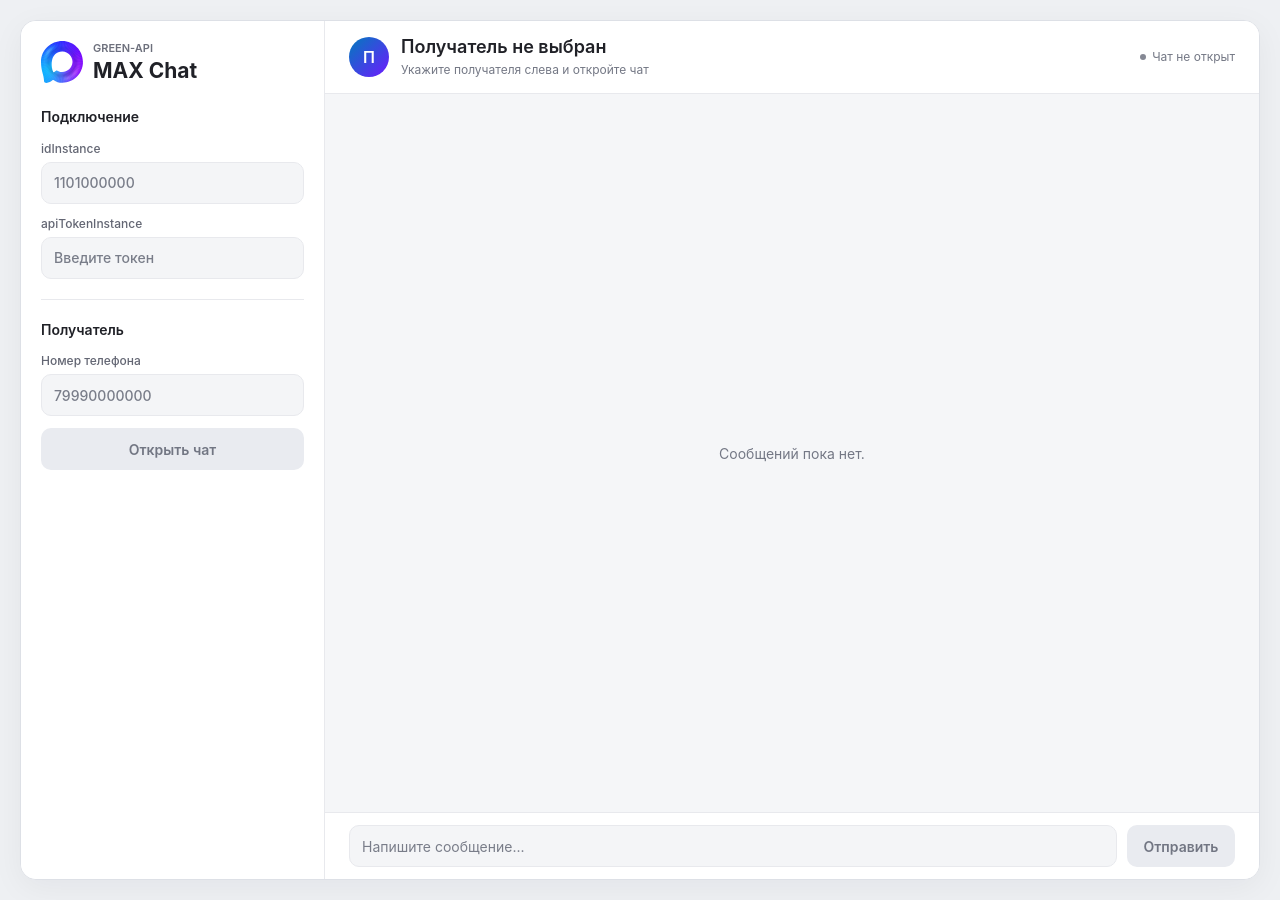
acknowledges other-chat events without displaying them and receives the active chat
The image size is (1280, 900).
In the field labelled "idInstance": (172, 183) 41,162 -> 304,204, type "test-instance"
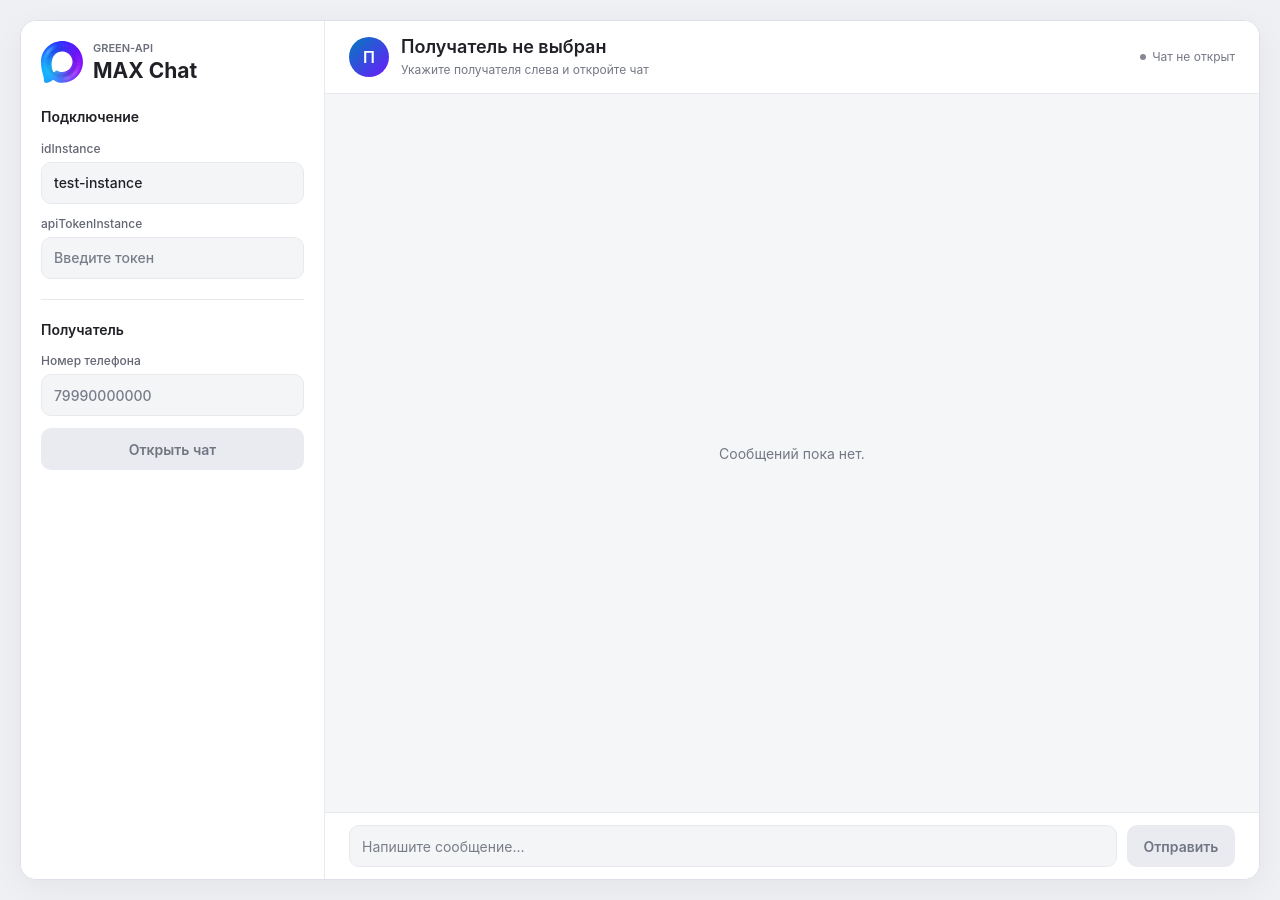
In the password field labelled "apiTokenInstance": (172, 258) 41,237 -> 304,279, type "test-token"
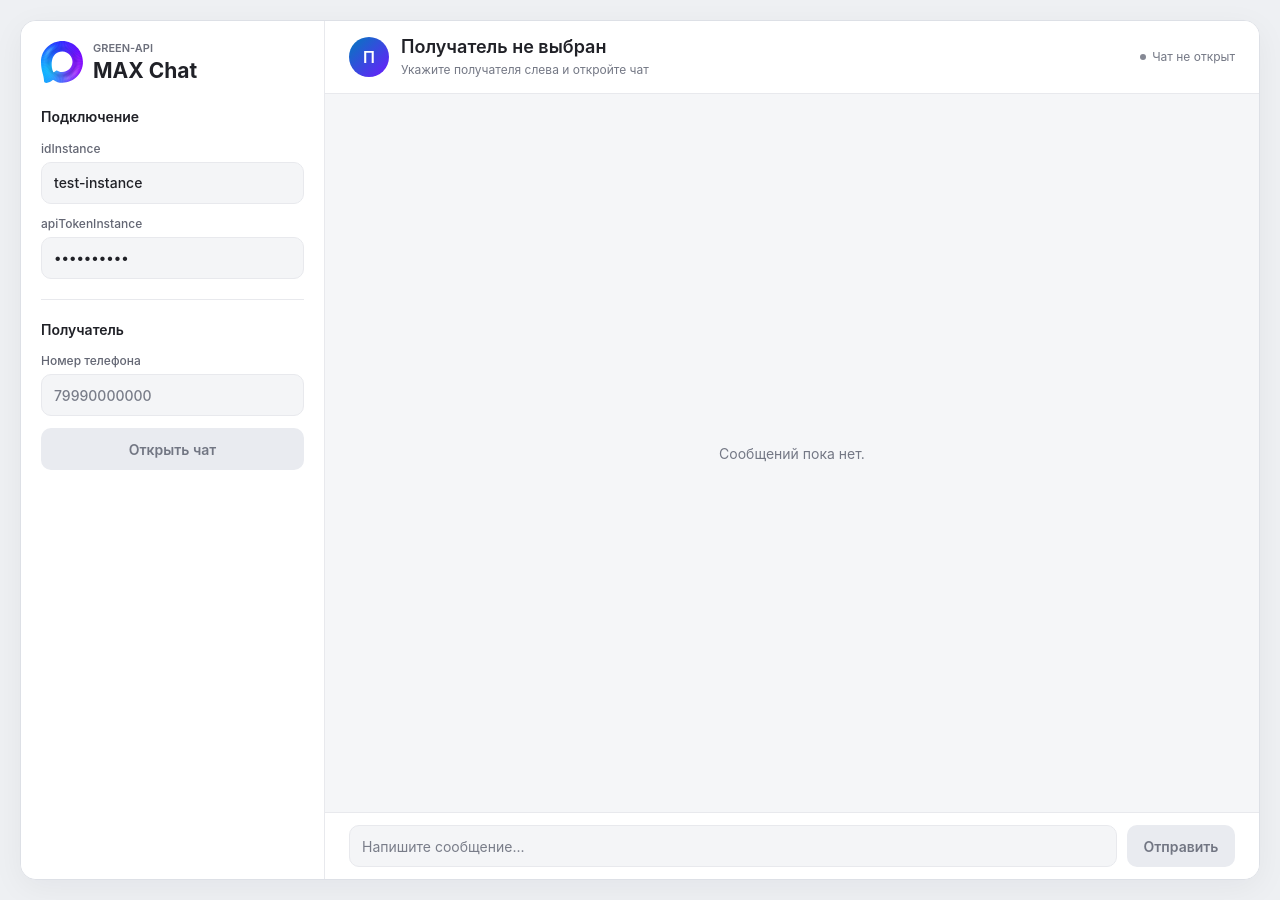
In the field labelled "Номер телефона": (172, 395) 41,374 -> 304,416, type "70000000000"
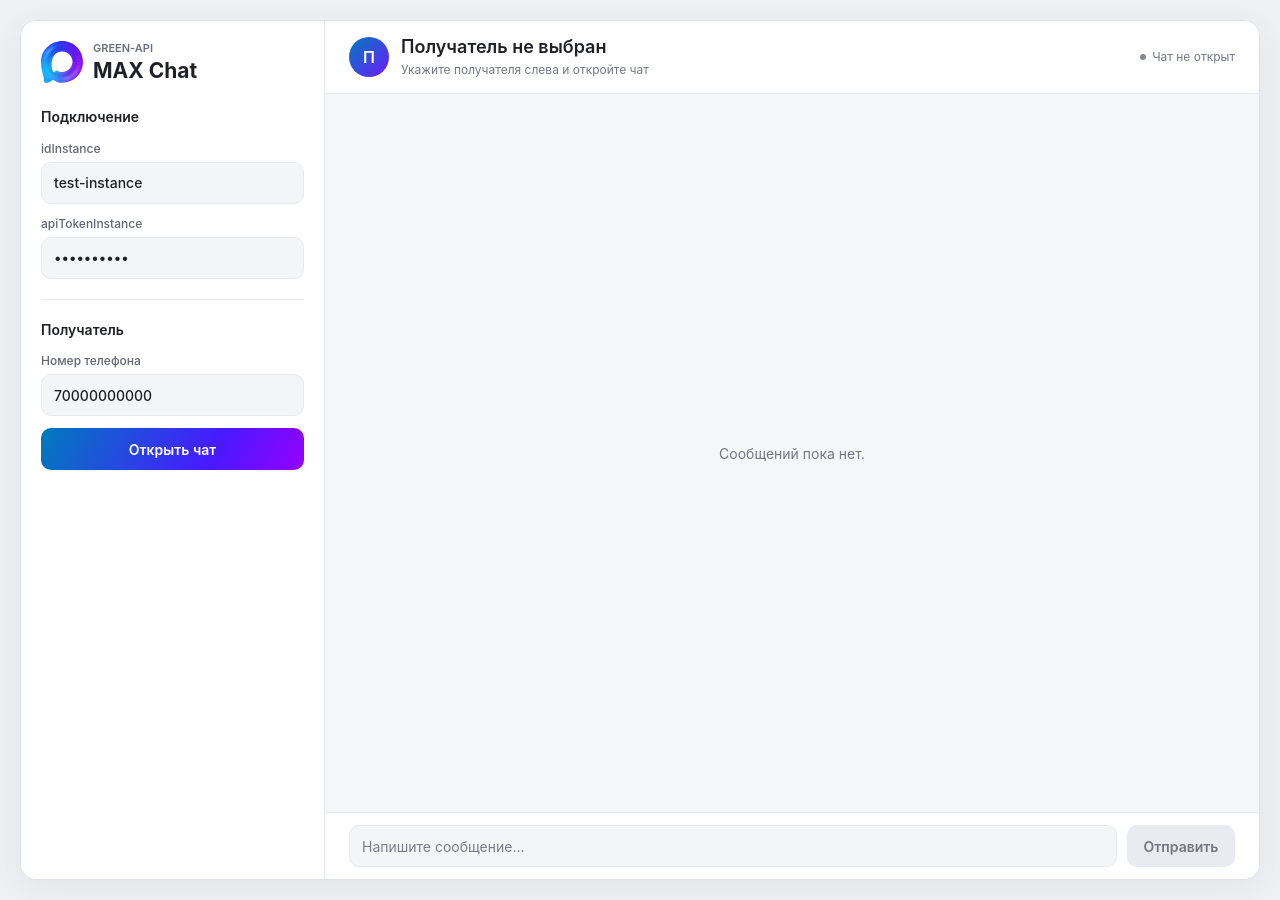
Click the button "Открыть чат": (172, 449) 41,428 -> 304,470
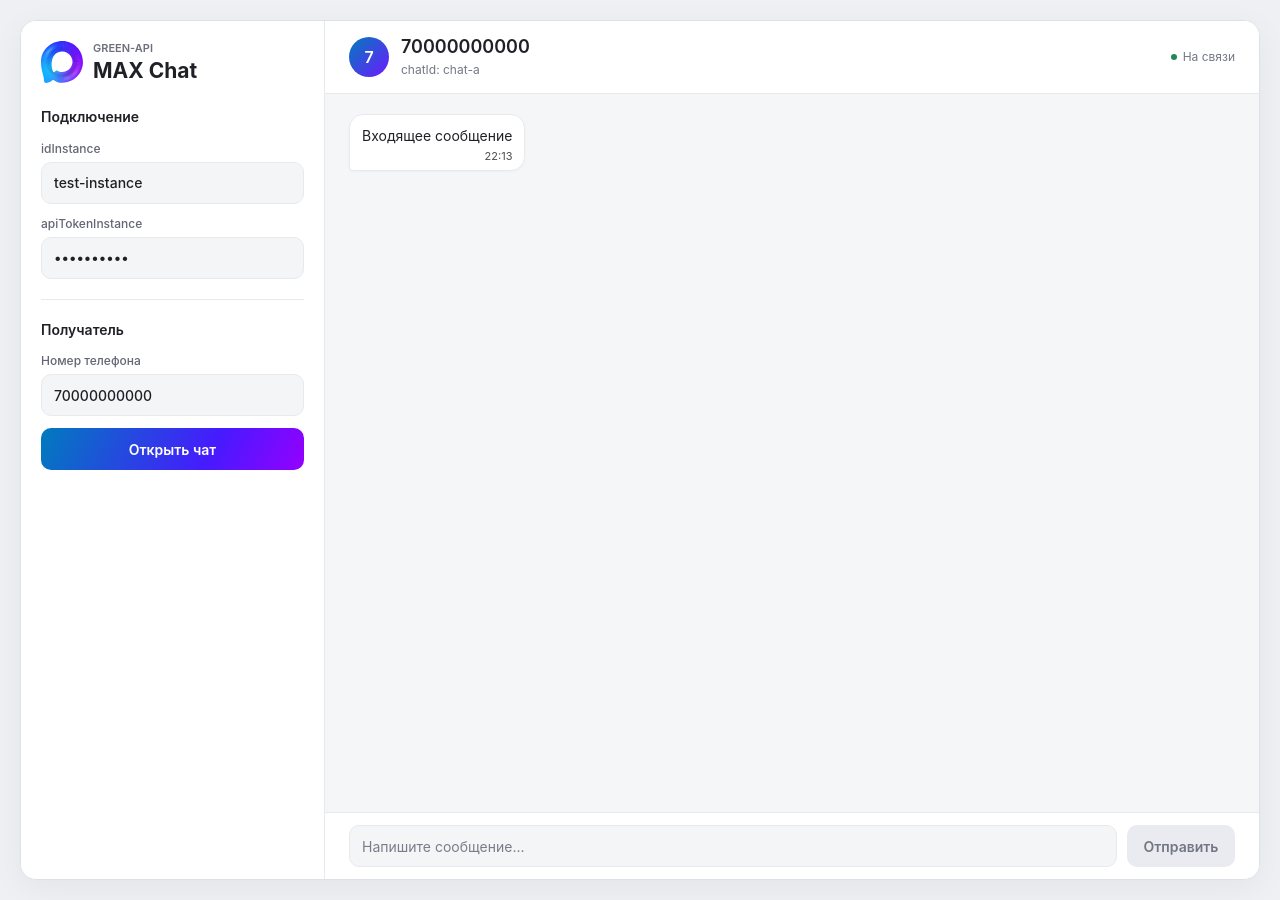
Expected: the heading "70000000000" is shown, 401,36 -> 530,57
Expected: the text "Входящее сообщение" is shown, 362,125 -> 512,146
Expected: the message reads "На связи", 1183,49 -> 1235,64
